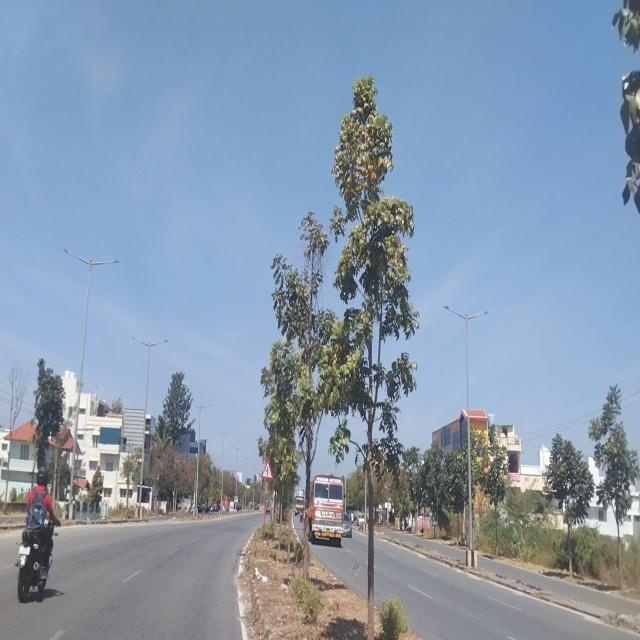bien_nguy_hiem: (262, 458, 272, 480)
